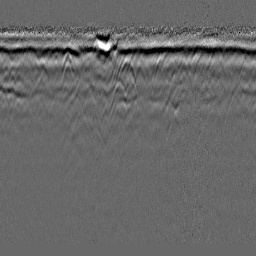cavity: (116, 52, 137, 88)
